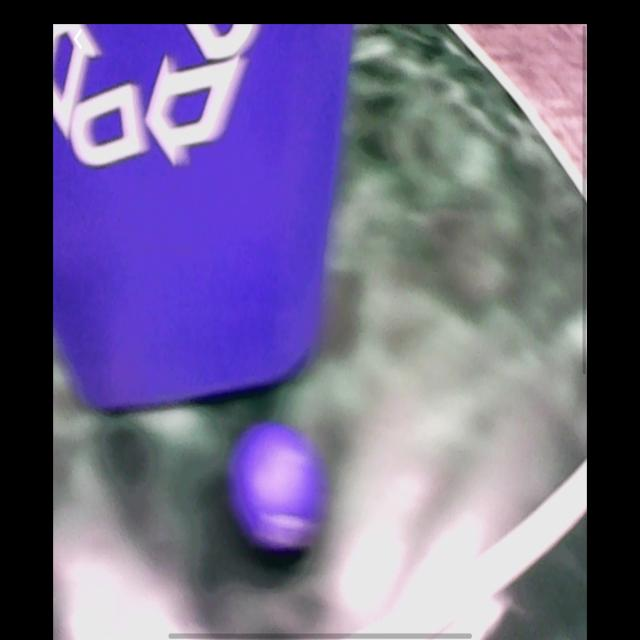ball: (230, 423, 325, 552)
